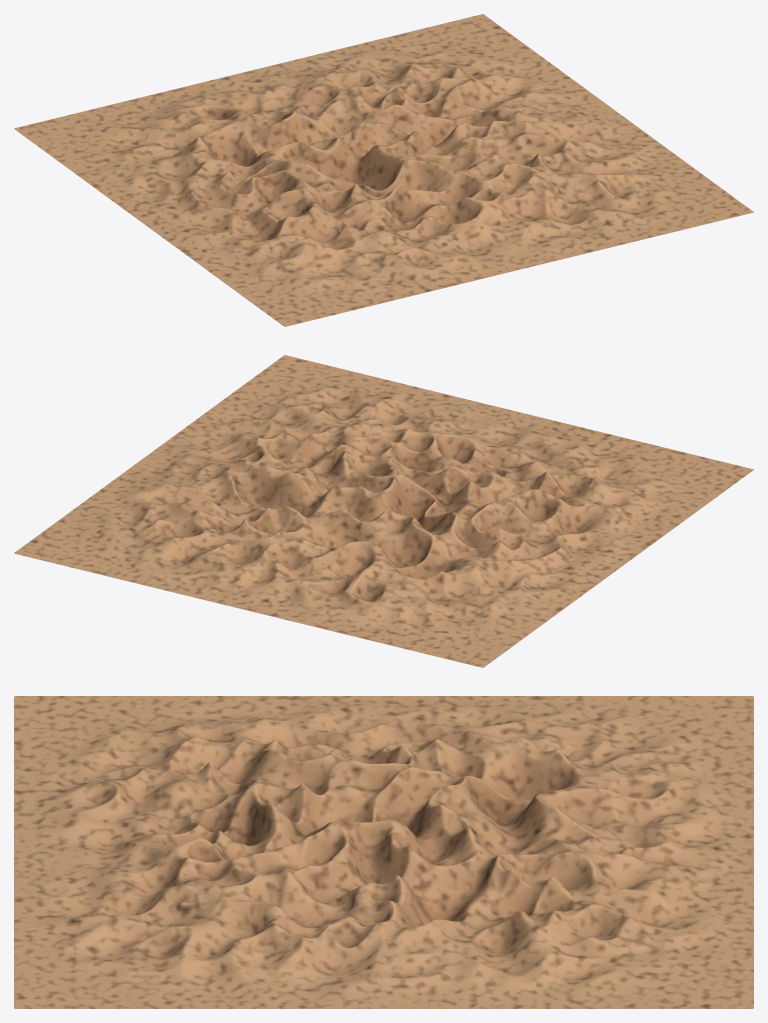
The model's file is sanddunes.glb.
3 renders of one model, top to bottom at view 1: azimuth 30°, elevation 25°; view 2: azimuth 150°, elevation 25°; view 3: azimuth 270°, elevation 25°, orthographic. The views are drawn at different scales.
Parts seen in each view (by area): view 1: Main sand dune_Material_0; view 2: Main sand dune_Material_0; view 3: Main sand dune_Material_0.
Boxes of the visible parts, x1,y1,x2,y2 form: Main sand dune_Material_0: (14, 14, 753, 326); Main sand dune_Material_0: (14, 355, 753, 667); Main sand dune_Material_0: (14, 696, 753, 1008).
Size of the model in its own units: 110 by 9.74 by 110.
1 material, 1 textured.
